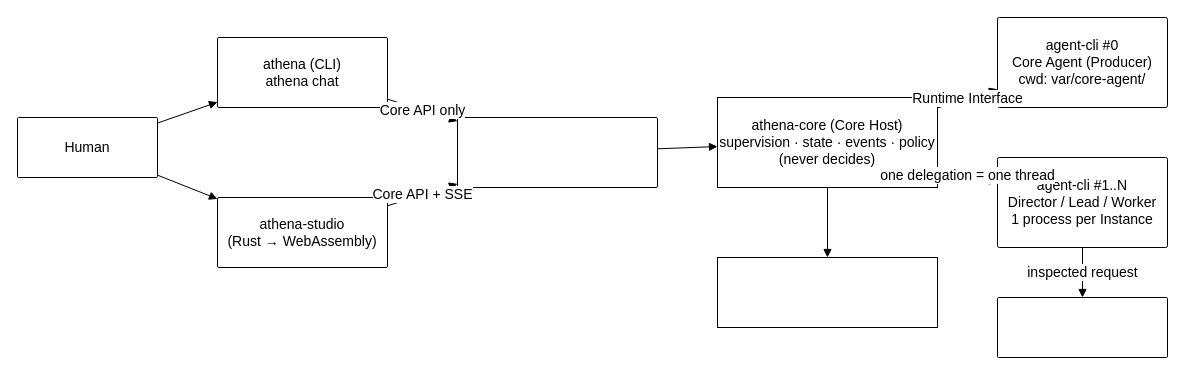
Some shapes in this 1185 by 375 pixel diagram are drawn without their labels. The box of each missing label's shape, as (x1, y1, x2, y2) in pixels:
athena-api (:8080) Core API: HTTP + SSE: (456, 116, 658, 188)
athena.db (redb) the authoritative store pure-Rust embedded, ACID: (716, 256, 938, 328)
Tool / External System: (996, 296, 1168, 358)
